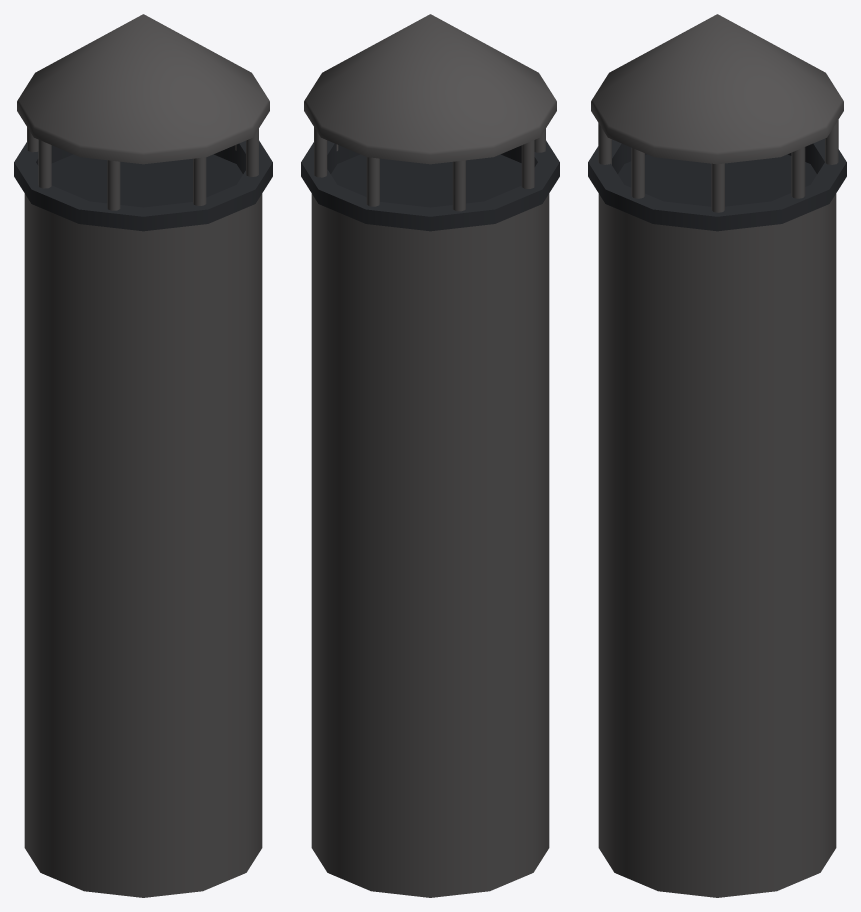
Rendered from Chimney_1.fbx.
The picture shows the model from 3 angles, left to right: view 1: azimuth 30°, elevation 25°; view 2: azimuth 150°, elevation 25°; view 3: azimuth 270°, elevation 25°; orthographic projection.
Parts seen in each view (by area): view 1: Chimney_1; view 2: Chimney_1; view 3: Chimney_1.
Boxes of the visible parts, box(x1,y1,x2,y2) form: Chimney_1: box(14, 14, 272, 897); Chimney_1: box(301, 14, 559, 897); Chimney_1: box(588, 14, 846, 897).
Bounding box in the file's own units: 44.34 × 158 × 44.34.
